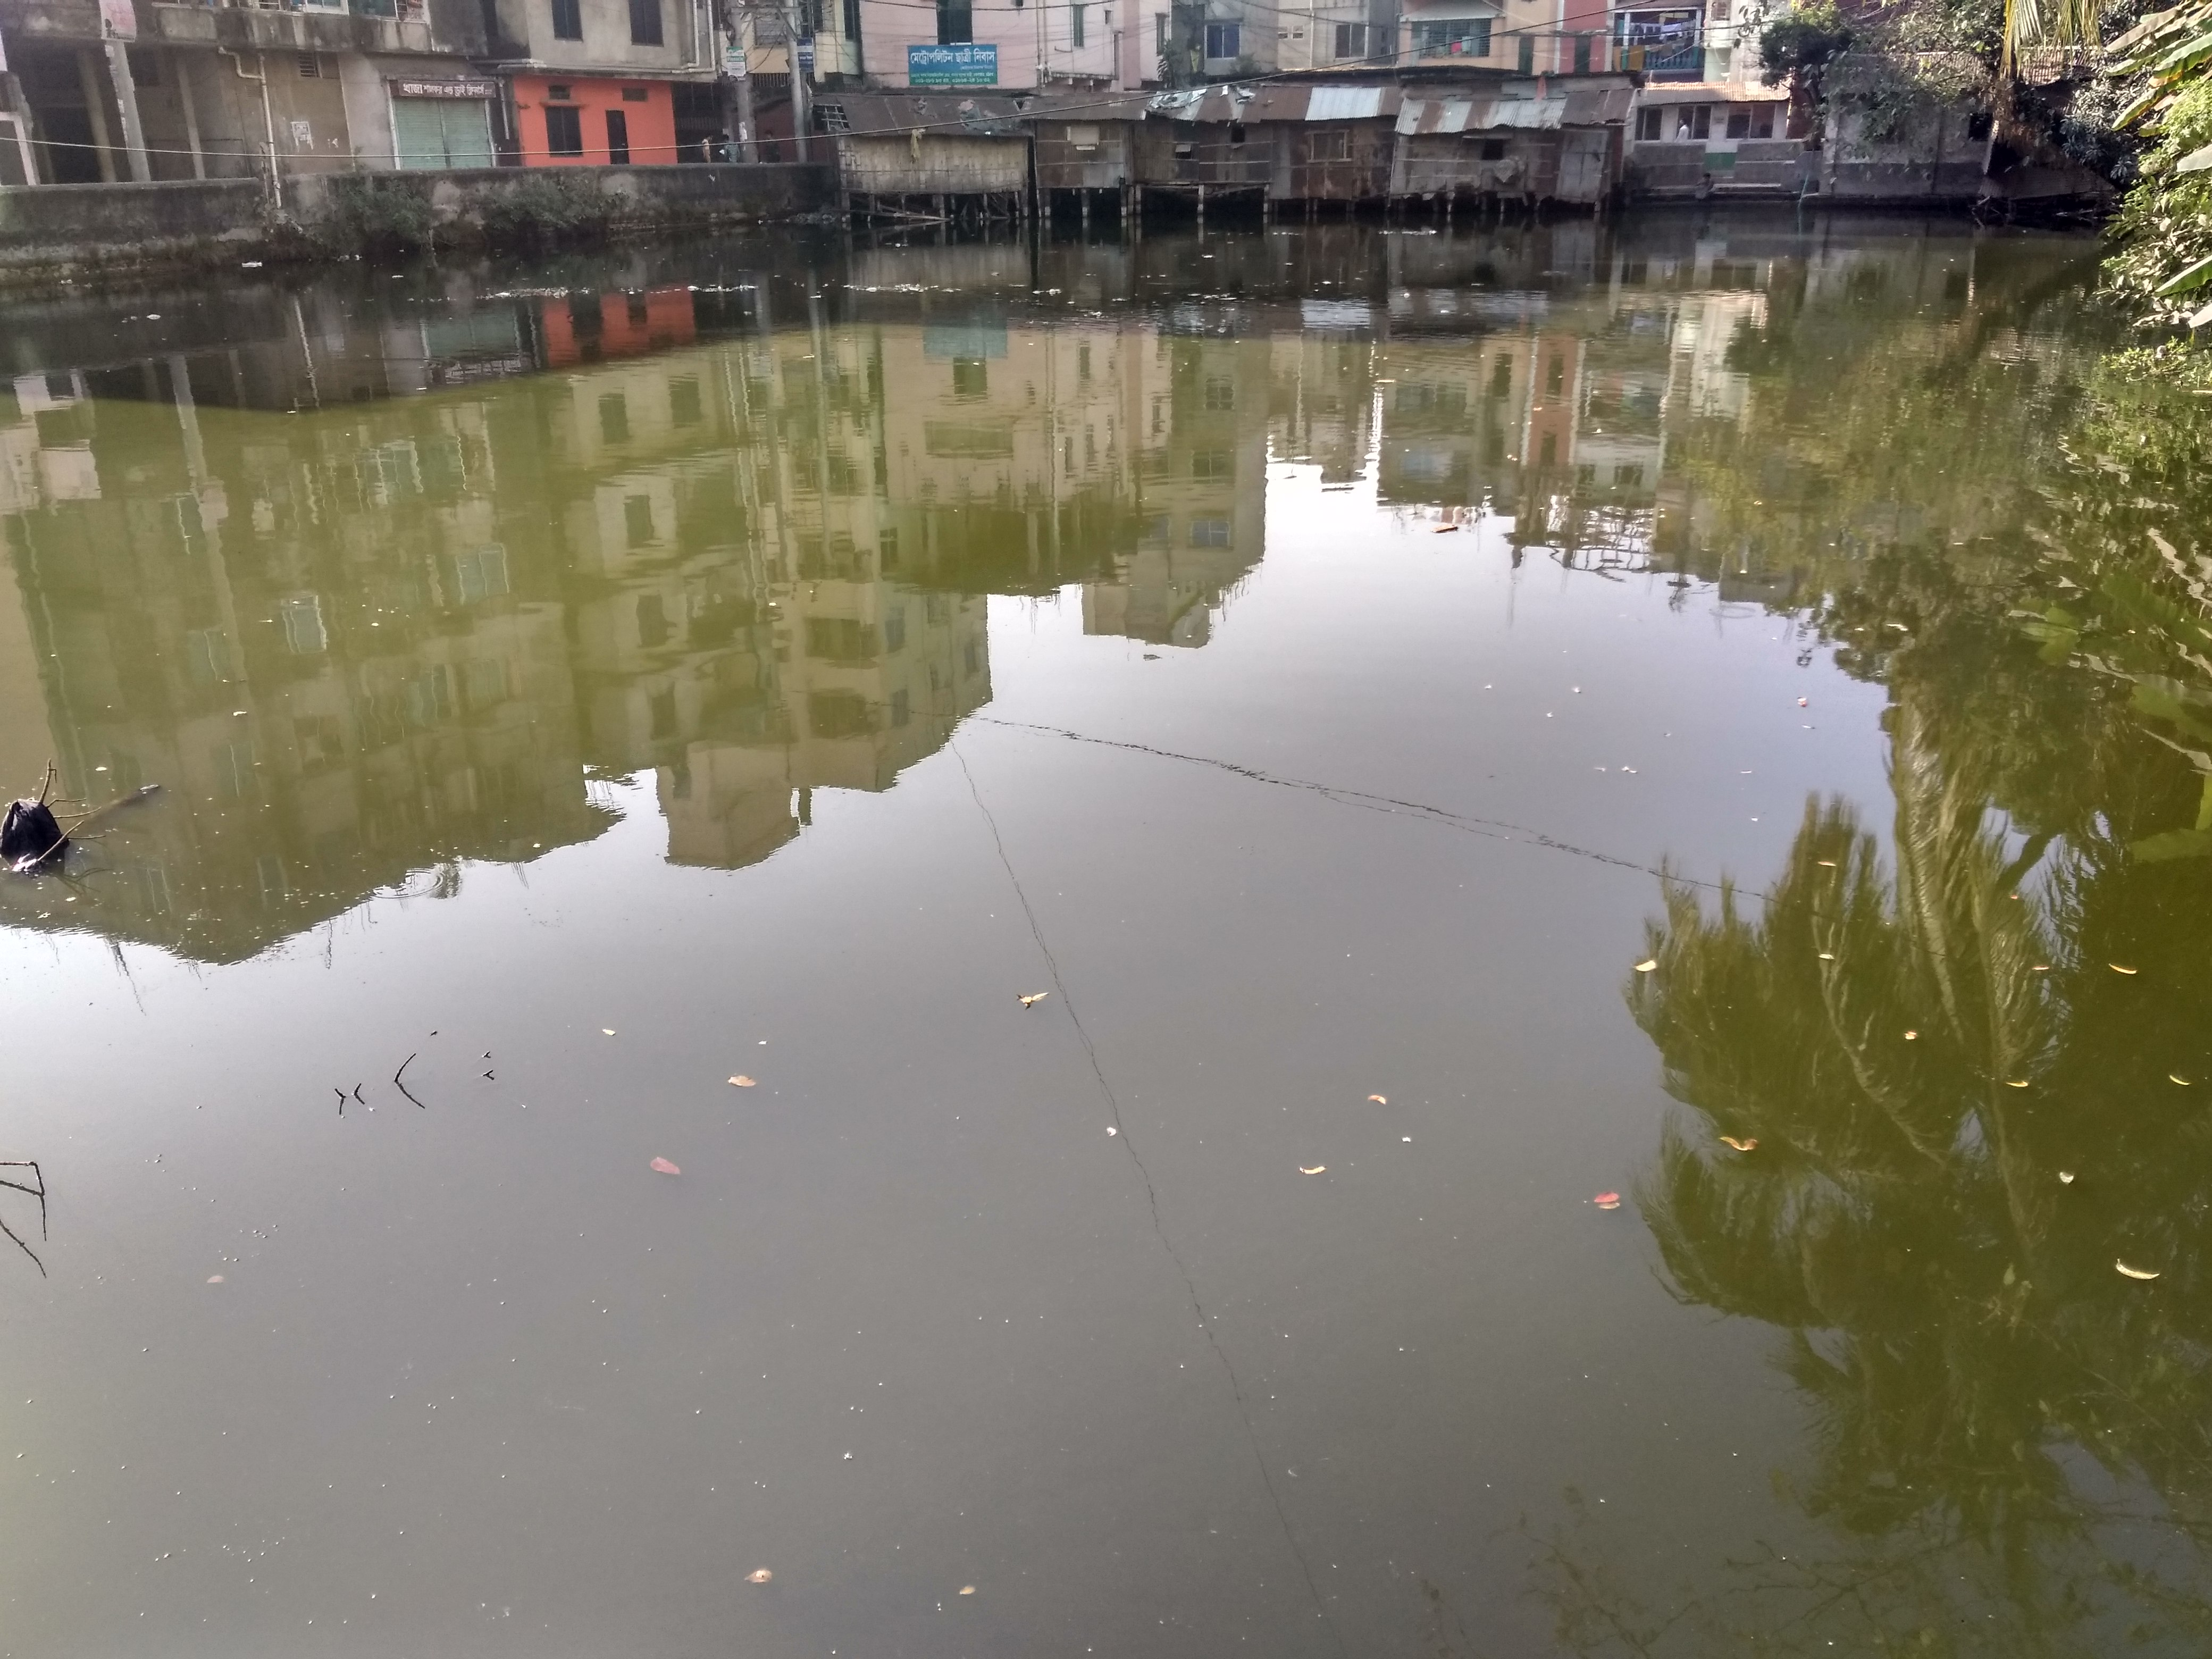Plastic Bottle: (2156, 345, 2165, 354), (146, 314, 160, 319), (688, 286, 698, 291), (495, 293, 509, 296), (867, 286, 876, 291), (1430, 230, 1437, 235), (1049, 289, 1055, 295), (1404, 293, 1409, 298), (1440, 310, 1447, 314)
